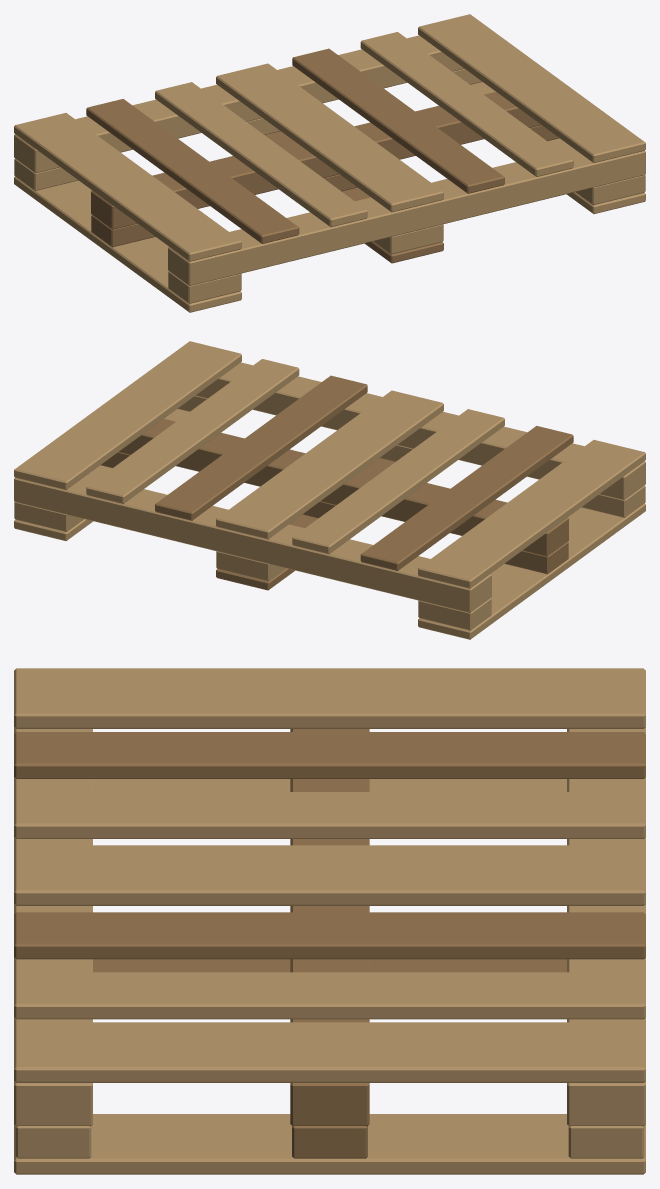
Rendered from Palete.fbx.
The picture shows the model from 3 angles, top to bottom: view 1: azimuth 30°, elevation 25°; view 2: azimuth 150°, elevation 25°; view 3: azimuth 270°, elevation 25°; orthographic projection. The views are drawn at different scales.
Parts seen in each view (by area): view 1: Palete; view 2: Palete; view 3: Palete.
Part boxes in pixels (x1,y1,x2,y2): Palete: (14, 14, 645, 312); Palete: (14, 341, 645, 639); Palete: (14, 668, 645, 1174).
Size of the model in its own units: 1.2 by 0.15 by 0.8.
